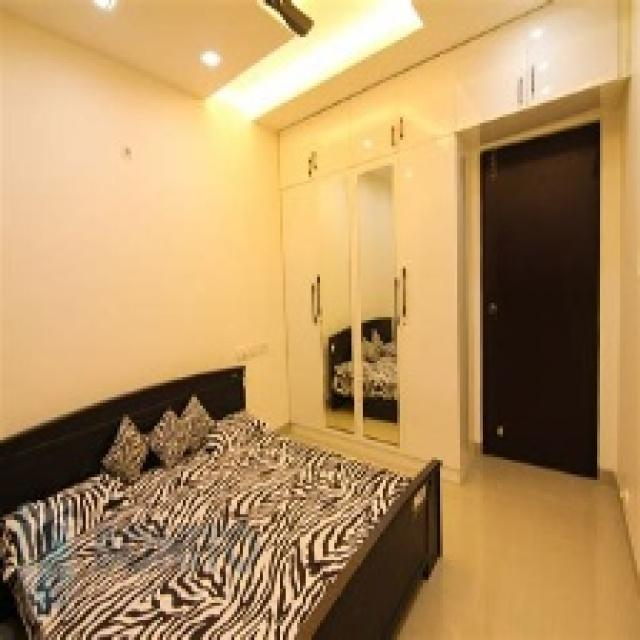Bed: (0, 363, 443, 637)
